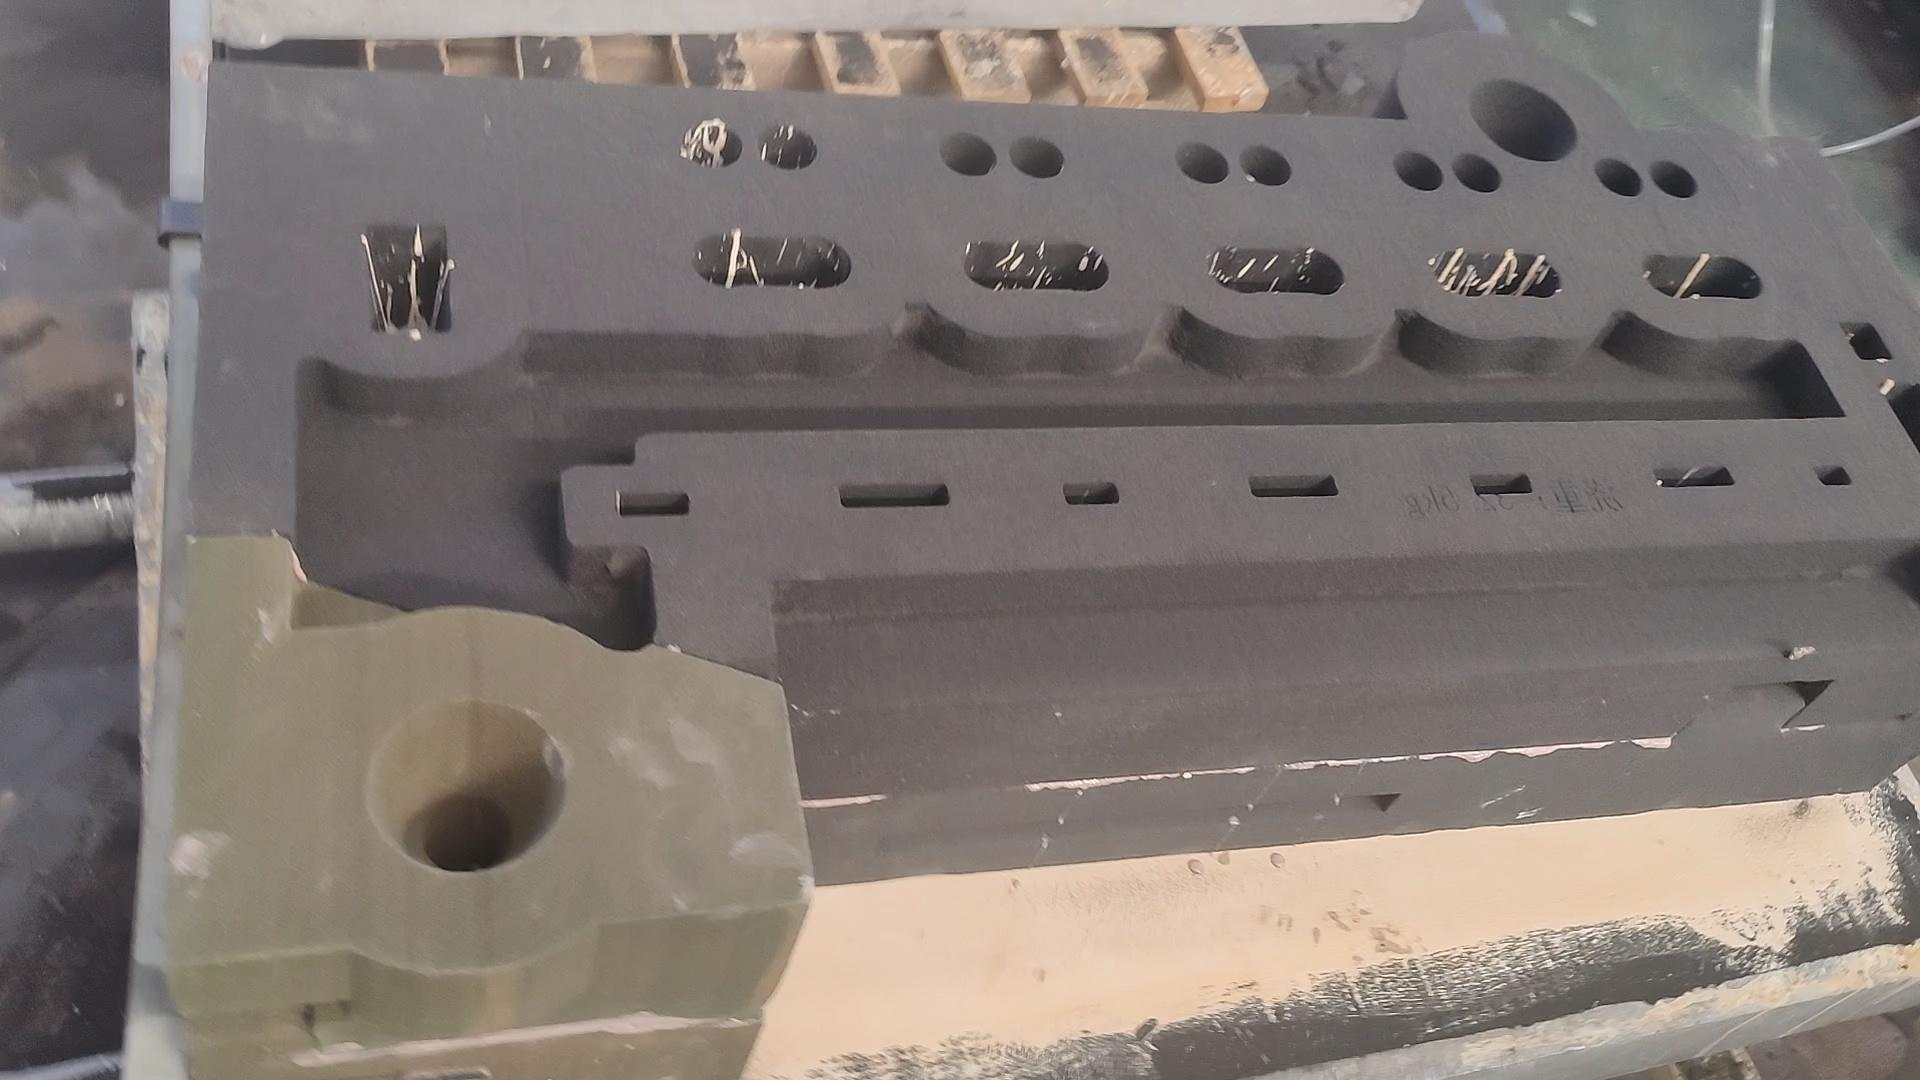pouring hole: (363, 700, 566, 874), (1468, 75, 1578, 164)
